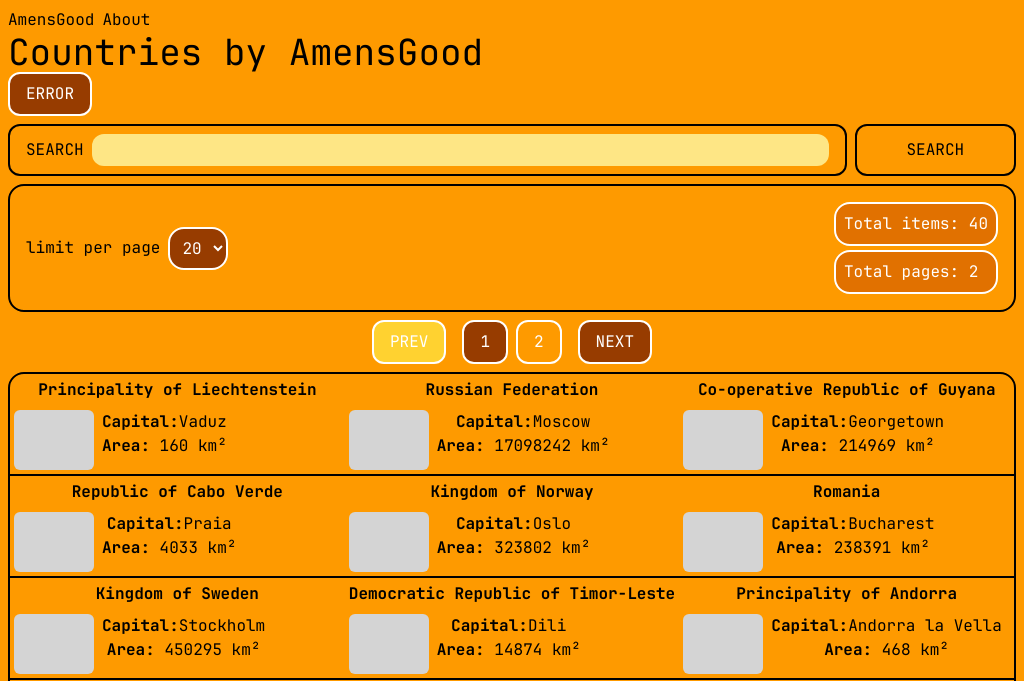
Test: home page › user can change limit
Expected: the heading "Total pages: 2" is shown, [834,250,998,294]
Select "50" in the dropdown at (198, 248), box [168,226,228,270]
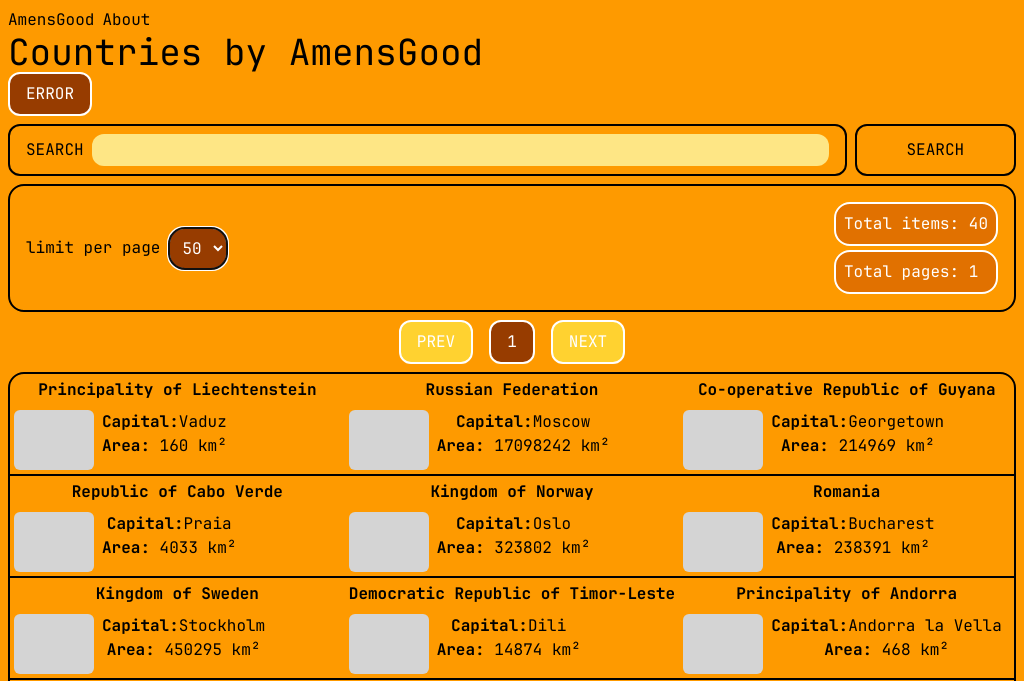
Result: the heading "Total pages: 1" is shown at [834,250,998,294]
